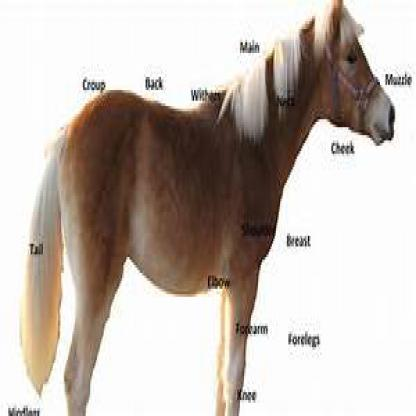horse: (19, 0, 397, 414)
